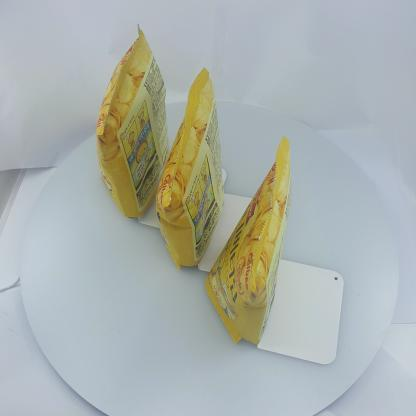Plastic Packaging: (206, 140, 290, 346), (90, 18, 165, 210), (160, 64, 226, 264)
